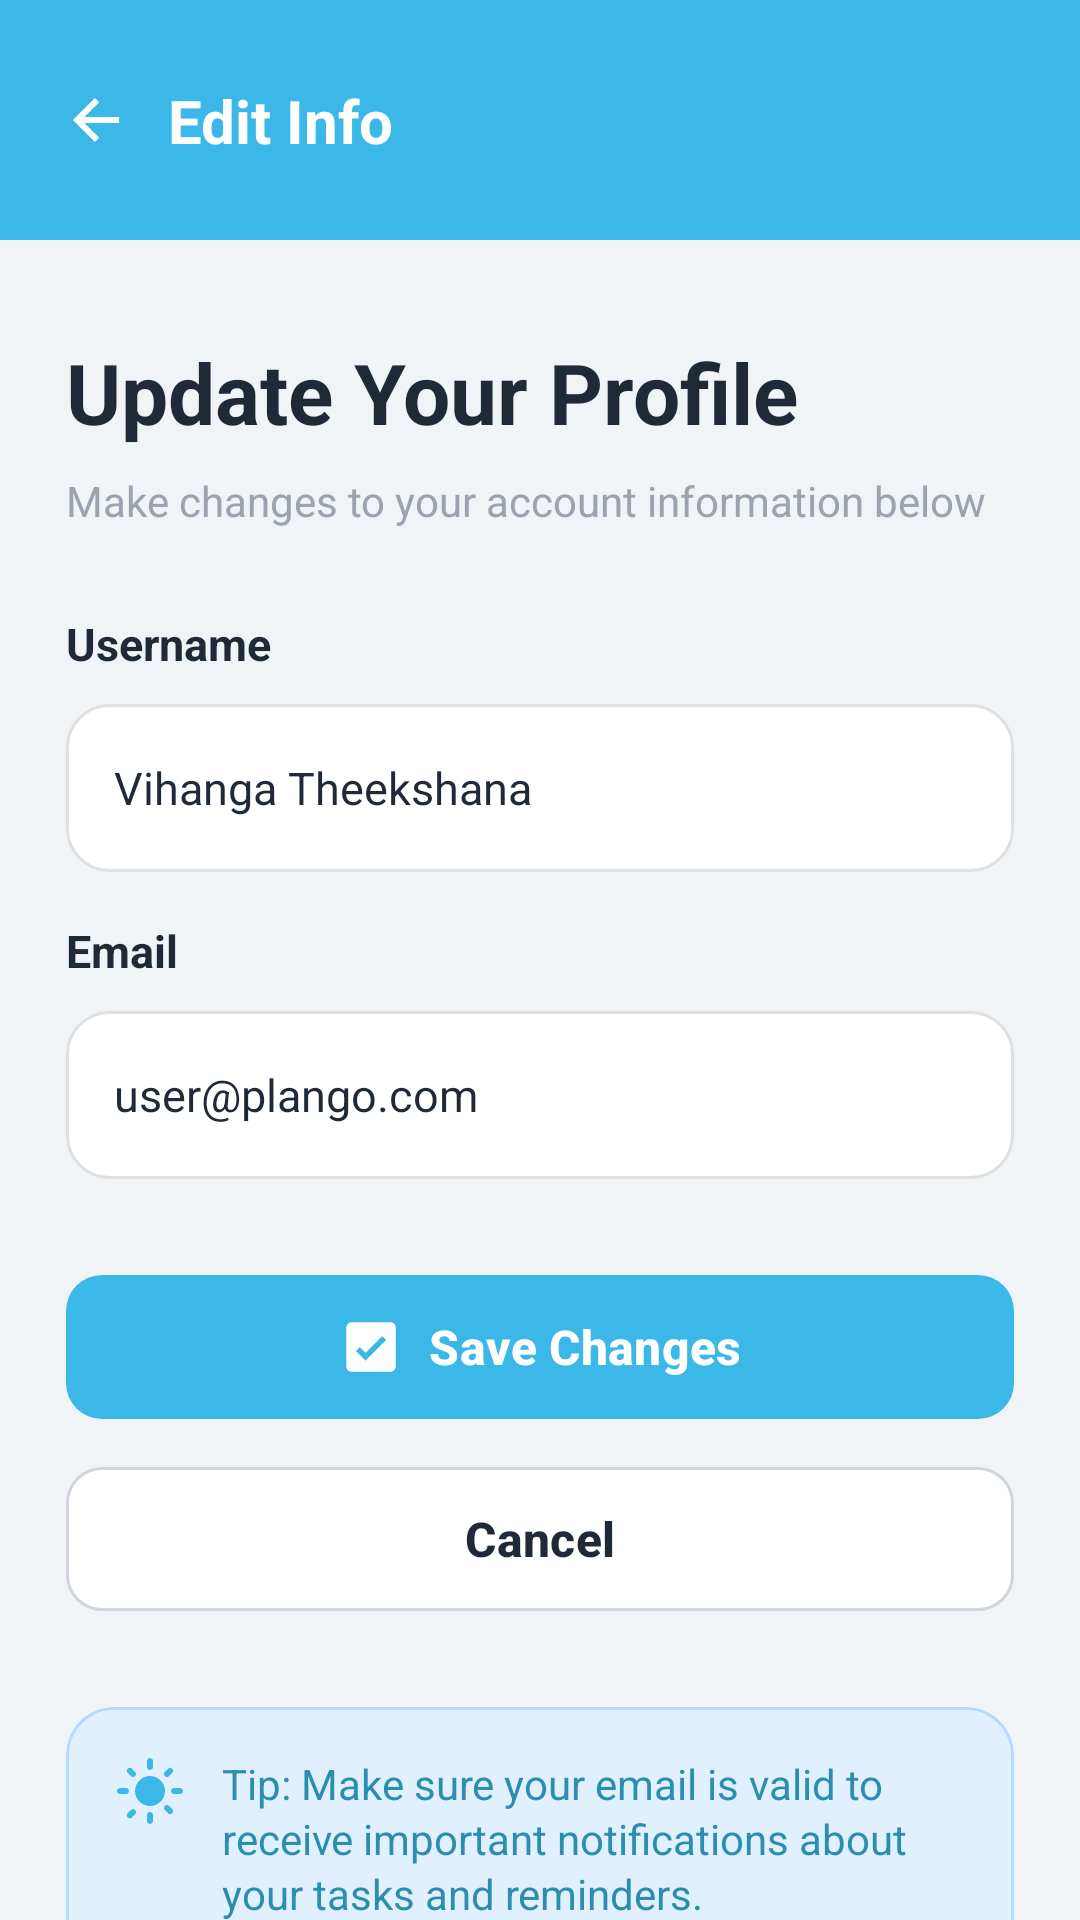

Icon click points for this 1080px x 1920px phone screenshot, format point (x, y):
Back: point (96, 120)
sun: point (150, 1791)
